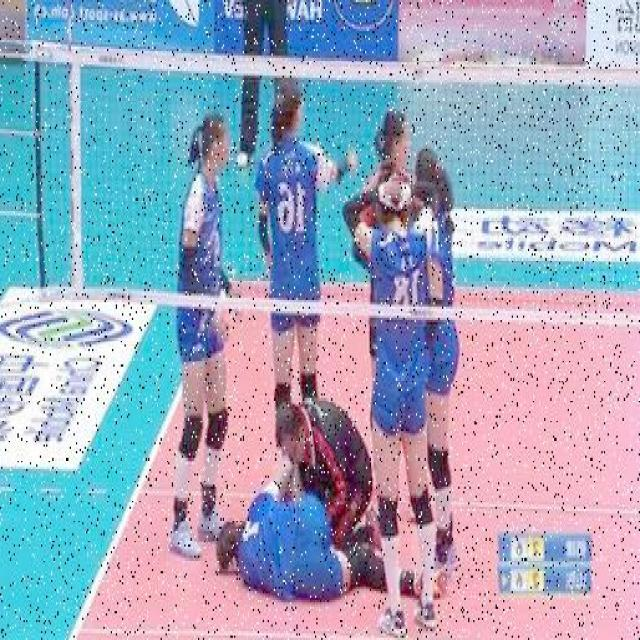fall: (216, 480, 400, 593)
